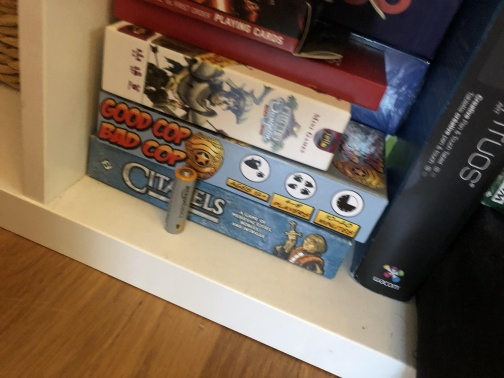battery: (162, 164, 199, 237)
